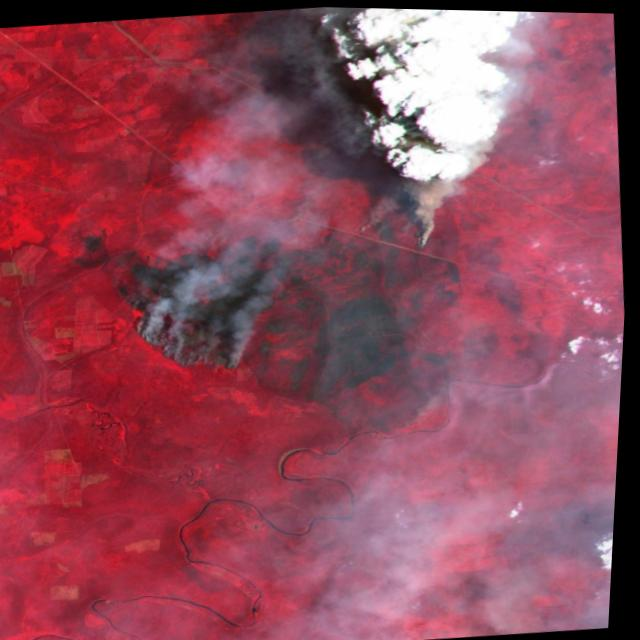fire: (117, 279, 256, 381), (338, 159, 450, 260), (393, 401, 447, 433)
